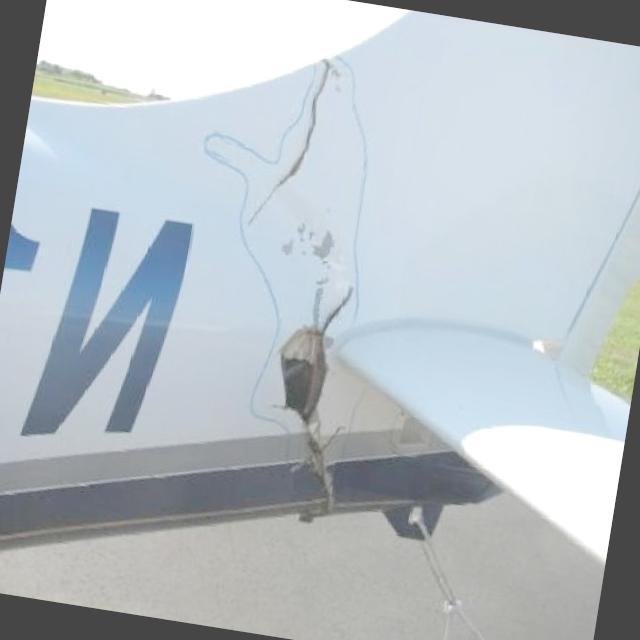crack: (246, 56, 341, 234)
